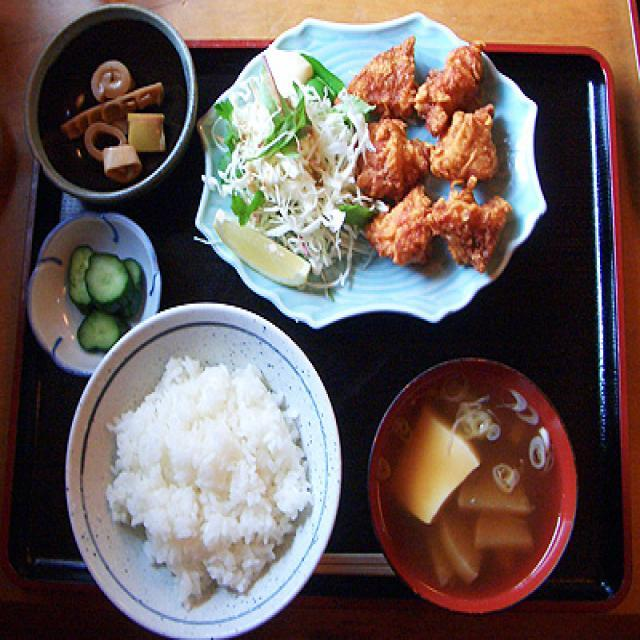Rice: (102, 356, 318, 598)
